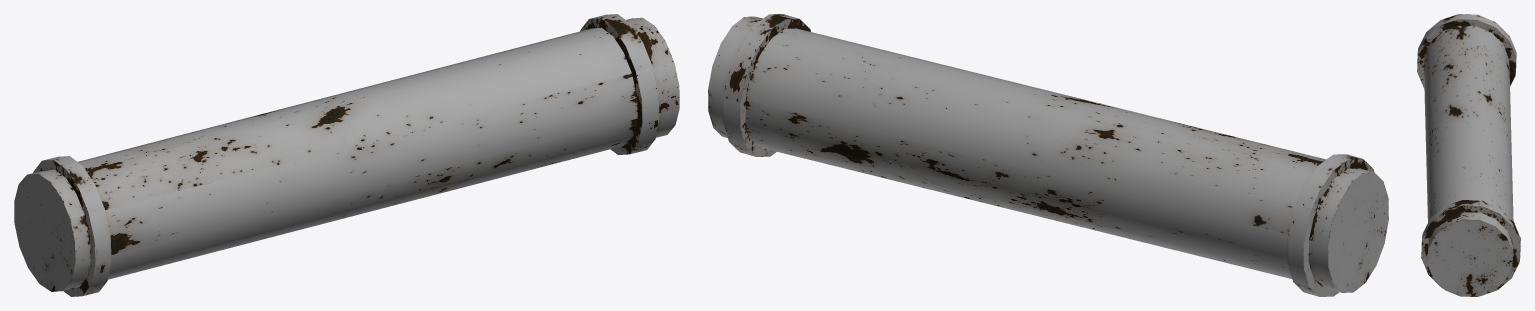
The model's file is Pipe.fbx.
3 renders of one model, left to right at view 1: azimuth 30°, elevation 25°; view 2: azimuth 150°, elevation 25°; view 3: azimuth 270°, elevation 25°, orthographic. The views are drawn at different scales.
Parts seen in each view (by area): view 1: Pipe; view 2: Pipe; view 3: Pipe.
Part boxes in pixels (x1,y1,x2,y2): Pipe: [14, 14, 679, 296]; Pipe: [708, 14, 1388, 296]; Pipe: [1417, 14, 1520, 296].
Bounding box in the file's own units: 11.44 × 2.39 × 2.4.
1 material, 1 textured.
